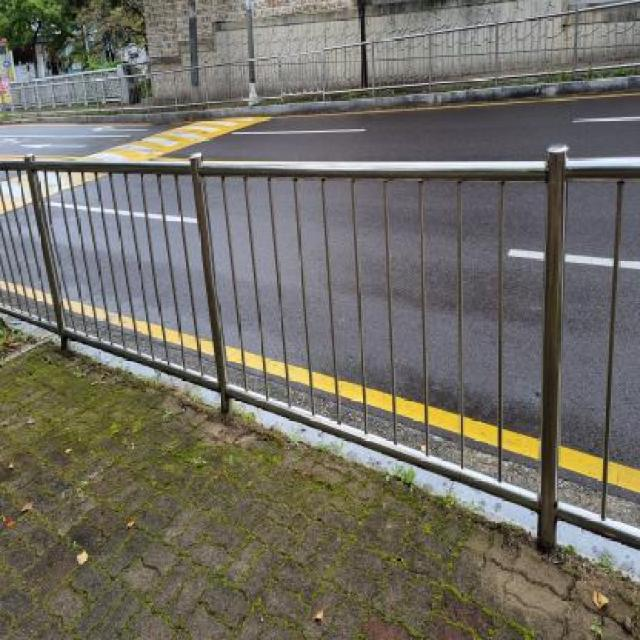fence: (186, 134, 640, 584), (0, 143, 263, 451)
